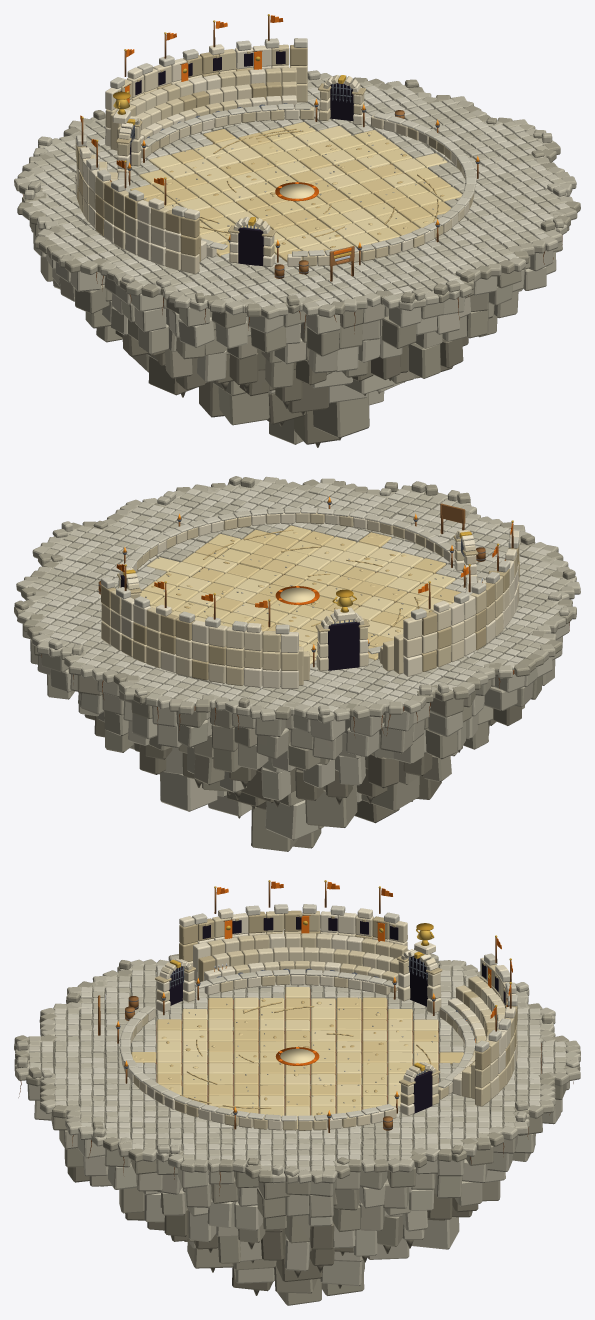
File: arene-ile.glb
3 renders of one model, top to bottom at view 1: azimuth 30°, elevation 25°; view 2: azimuth 150°, elevation 25°; view 3: azimuth 270°, elevation 25°, orthographic.
Visible parts, largest first — view 1: pierre_fond.187, pierre_fond.093, pierre_fond.201, herse_trou.001, pierre_fond.139, pierre_fond.059, pierre.149, herse_trou.002, pierre_fond.182, pierre_fond.038, pierre.039, pierre_fond.051 (+16 smaller); view 2: pierre_fond.208, pierre_fond.079, herse_trou, pierre_fond.120, pierre_fond.170, pierre_fond.047, pierre_fond.024, pierre_fond.106, pierre_fond, pierre_fond.040, pierre.023, pierre.041 (+24 smaller); view 3: pierre_fond.208, pierre_fond.217, pierre_fond.331, herse_trou, herse_trou.002, pierre_fond.319, pierre_fond.342, pierre_fond.187, pierre_fond.292, pierre_fond.343, pierre_fond.335, pierre_fond.330 (+19 smaller).
Boxes of the visible parts, x1,y1,x2,y2 form: pierre_fond.187: (313,393,369,438); pierre_fond.093: (218,387,269,425); pierre_fond.201: (408,343,440,378); herse_trou.001: (238,227,263,266); pierre_fond.139: (287,382,328,413); pierre_fond.059: (229,353,258,384); pierre.149: (382,316,416,348); herse_trou.002: (330,83,353,120); pierre_fond.182: (294,410,338,444); pierre_fond.038: (197,350,226,382); pierre.039: (178,317,214,347); pierre_fond.051: (148,356,194,395); pierre_fond.208: (160,772,217,811); pierre_fond.079: (305,785,357,827); herse_trou: (327,622,359,670); pierre_fond.120: (265,800,318,840); pierre_fond.170: (251,807,297,851); pierre_fond.047: (361,776,419,811); pierre_fond.024: (368,753,398,788); pierre_fond.106: (261,767,290,800); pierre_fond: (425,728,457,759); pierre_fond.040: (338,755,365,785); pierre.023: (380,722,412,753); pierre.041: (346,727,379,757); pierre_fond.208: (411,1217,459,1249); pierre_fond.217: (320,1260,364,1285); pierre_fond.331: (285,1237,310,1271); herse_trou: (410,956,428,1006); herse_trou.002: (413,1071,432,1113); pierre_fond.319: (261,1229,285,1260); pierre_fond.342: (234,1201,262,1230); pierre_fond.187: (187,1242,233,1268); pierre_fond.292: (377,1216,403,1246); pierre_fond.343: (207,1199,235,1227); pierre_fond.335: (188,1210,216,1242); pierre_fond.330: (284,1215,310,1243).
Bounding box in the file's own units: 44.18 × 28.19 × 44.19.
